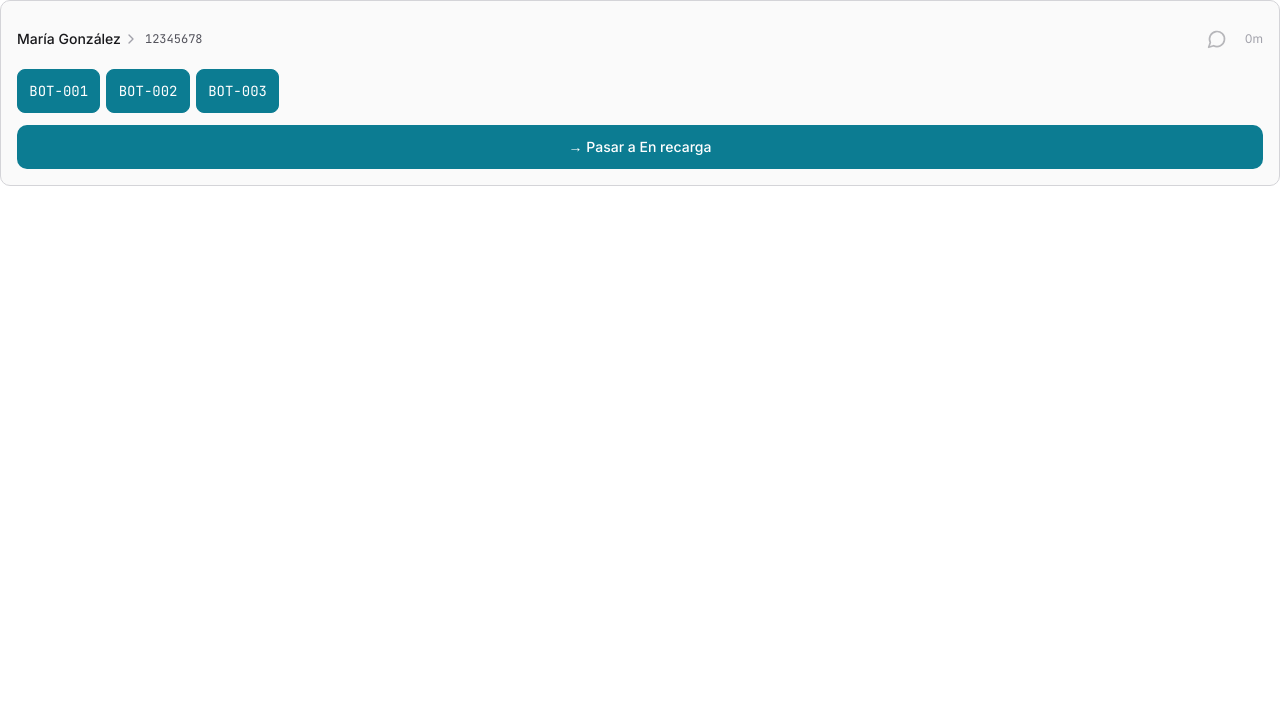
Scenario: Undo flow — REQ-COS-19 (Slice C) › applies the move optimistically, then reconciles with the RPC rows (S1)
The width and height of the screenshot is (1280, 720).
Click the button "→ Pasar a En recarga". click: [640, 147]
box: top-left (17, 125), bottom-right (1263, 169)
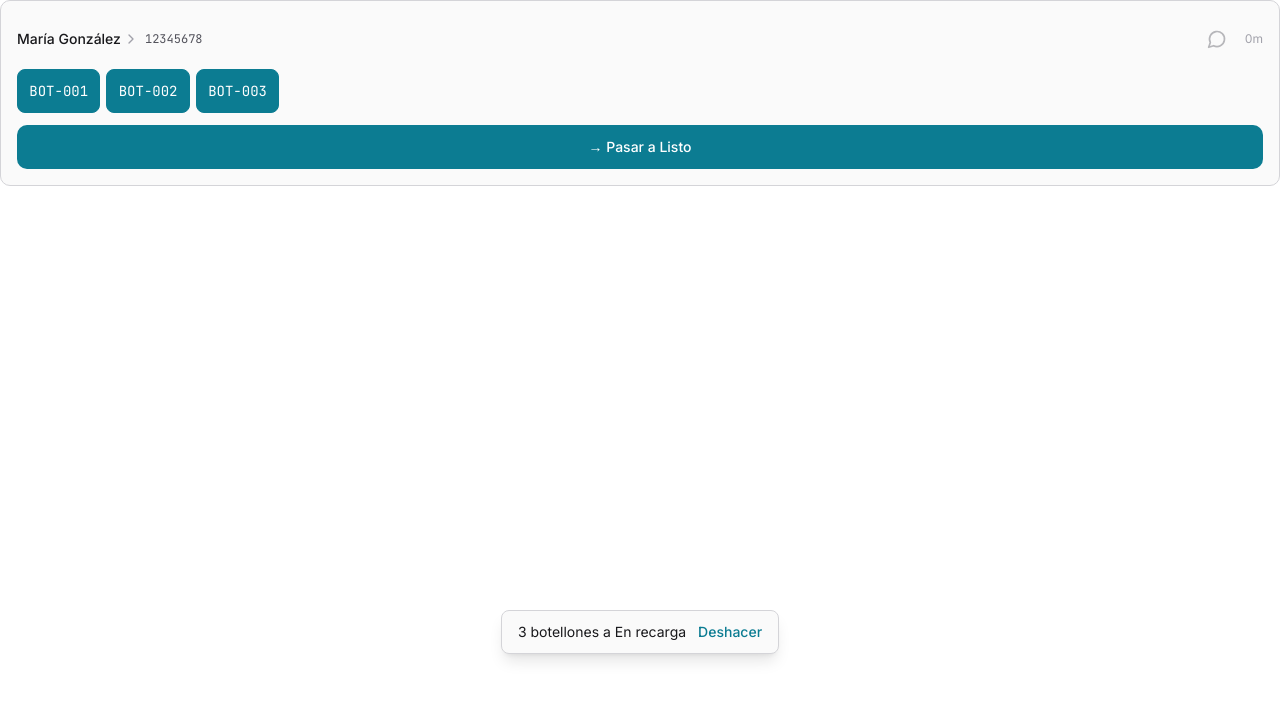
Expected: the text "3 botellones a En recarga" is shown, top-left (518, 622), bottom-right (686, 642)
Expected: the button "Deshacer" is shown, top-left (698, 622), bottom-right (762, 642)
Expected: the button "→ Pasar a Listo" is shown, top-left (17, 125), bottom-right (1263, 169)
